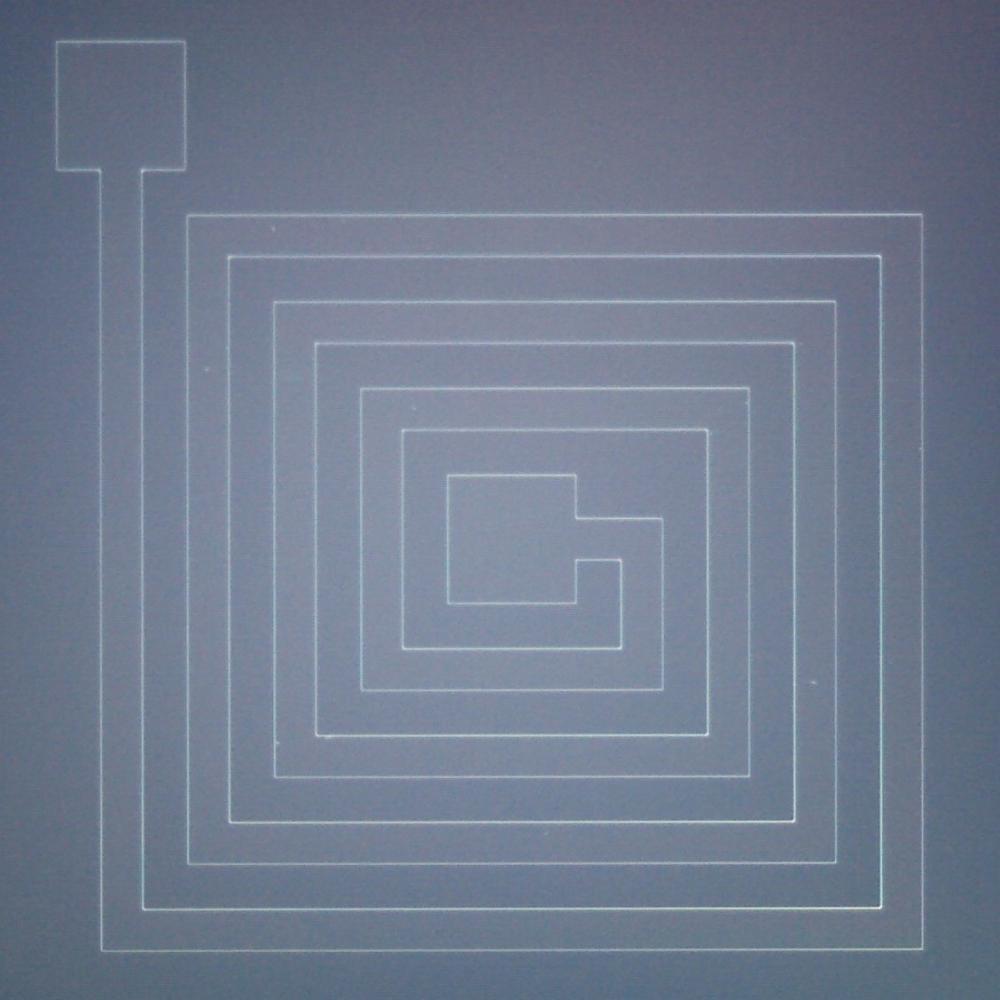dot: (270, 226, 278, 234), (811, 680, 817, 686)
